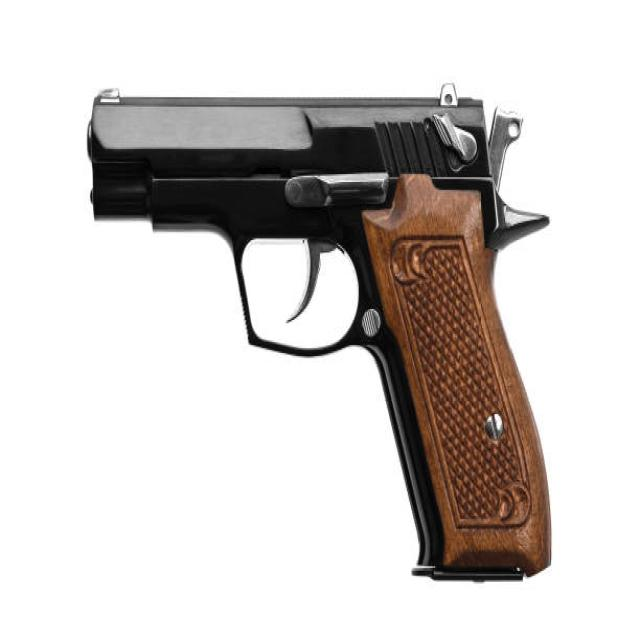pistol: (80, 82, 559, 594)
